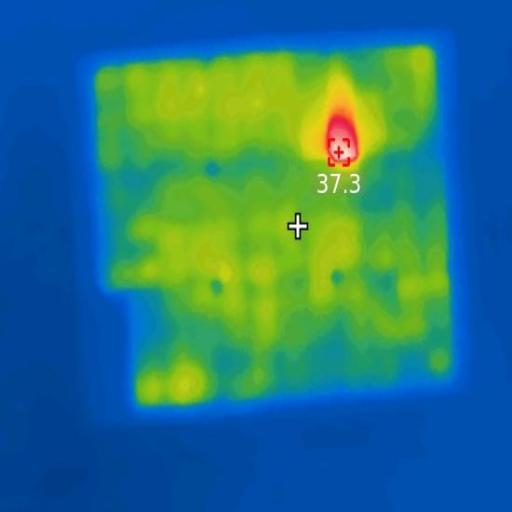hotspot: (320, 110, 368, 172)
